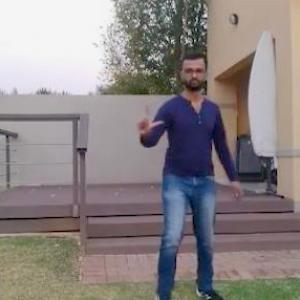land_hand: (134, 106, 168, 147)
